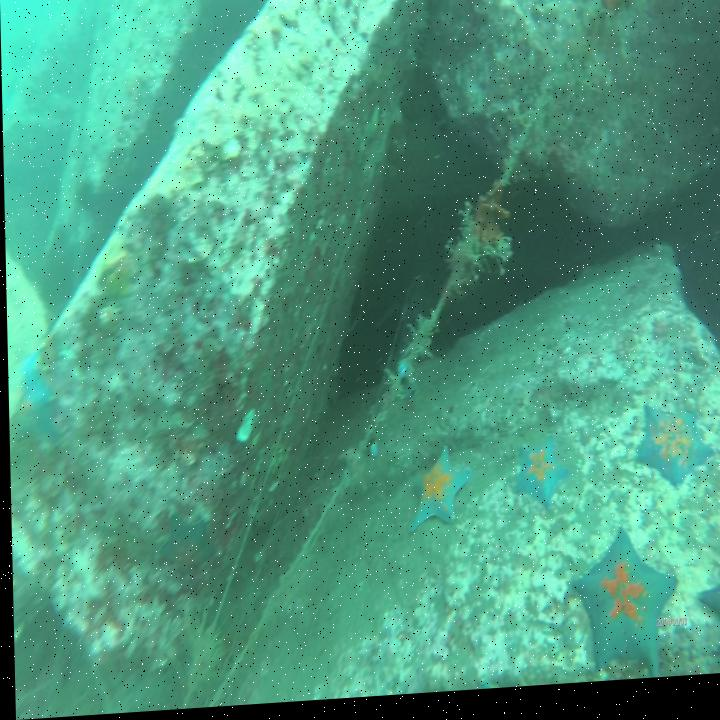starfish: (565, 529, 676, 691), (631, 408, 712, 500), (8, 346, 61, 456), (406, 447, 468, 534), (156, 510, 212, 602), (508, 441, 566, 519), (694, 541, 720, 679)
